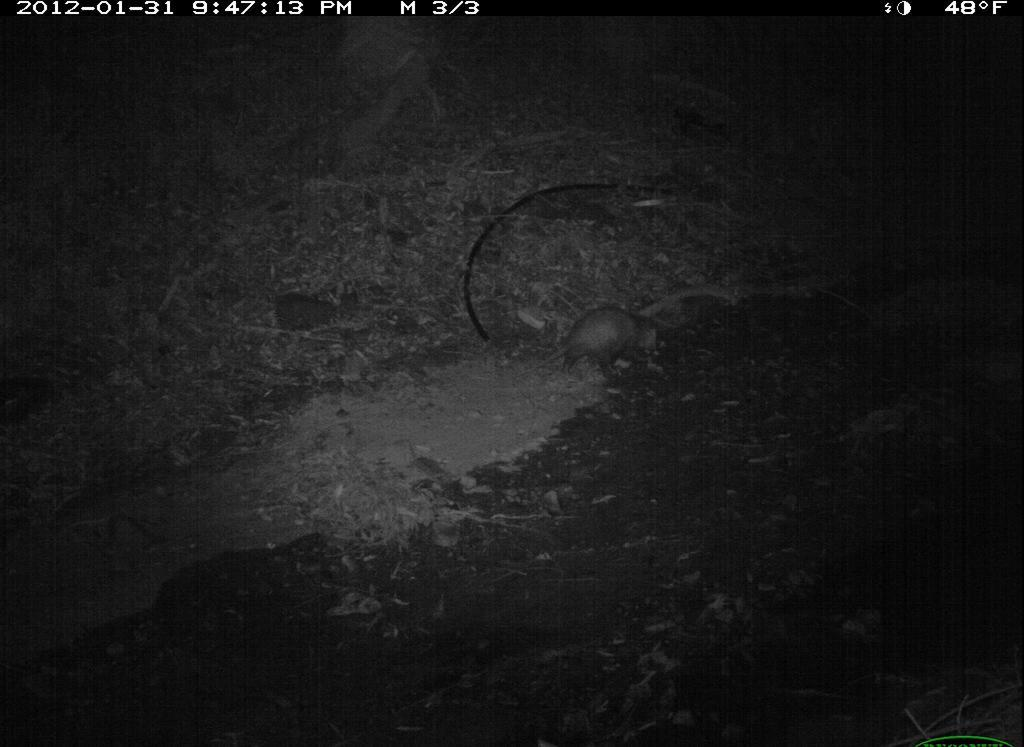opossum: (494, 300, 675, 398)
